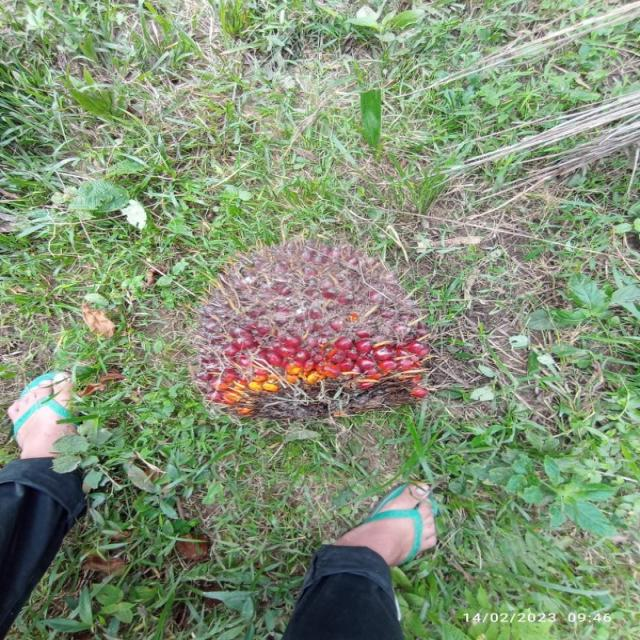fraksi 3: (116, 208, 506, 469)
